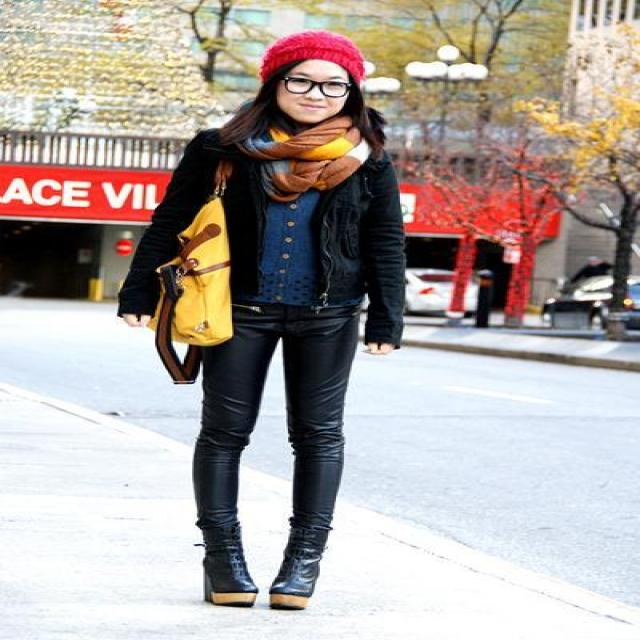bag: (155, 197, 232, 383)
hat: (264, 33, 362, 63)
jacket: (117, 130, 438, 349)
pants: (192, 294, 365, 540)
shirt: (256, 194, 315, 304)
shoe: (193, 534, 324, 609)
